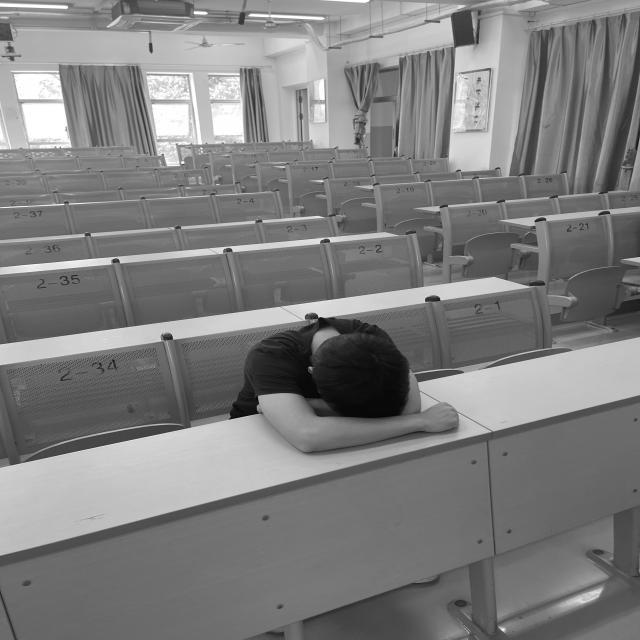sleep: (238, 315, 464, 452)
